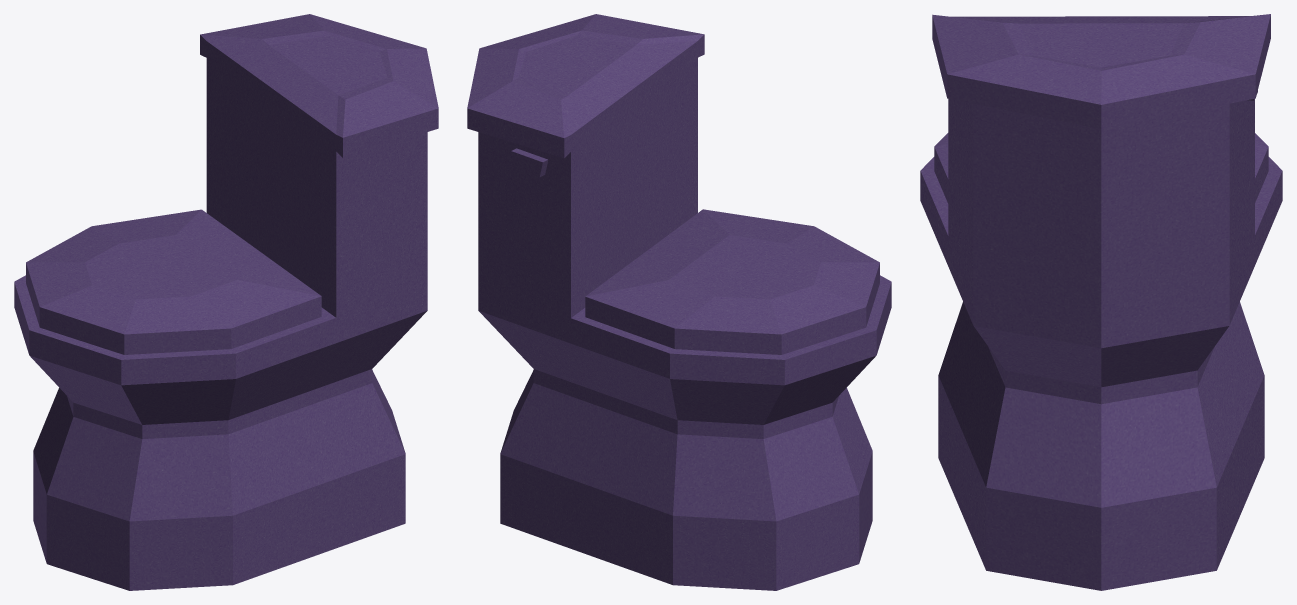
The model's file is CLToilet.fbx.
3 renders of one model, left to right at view 1: azimuth 30°, elevation 25°; view 2: azimuth 150°, elevation 25°; view 3: azimuth 270°, elevation 25°, orthographic. The views are drawn at different scales.
Visible parts, largest first — view 1: CLToilet; view 2: CLToilet; view 3: CLToilet.
Part boxes in pixels (x1,y1,x2,y2): CLToilet: [14, 14, 438, 590]; CLToilet: [467, 14, 891, 590]; CLToilet: [920, 14, 1282, 590].
Bounding box in the file's own units: 74.09 × 77.01 × 48.87.
